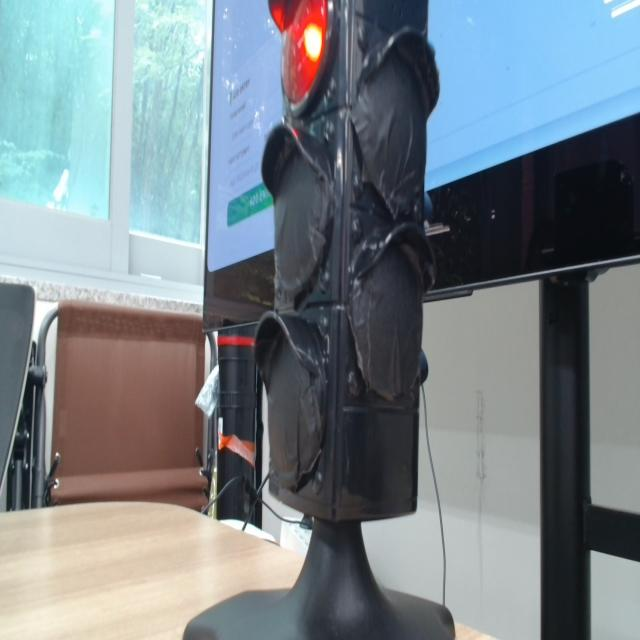red_light: (282, 0, 328, 107), (304, 24, 323, 62), (270, 0, 285, 32)
